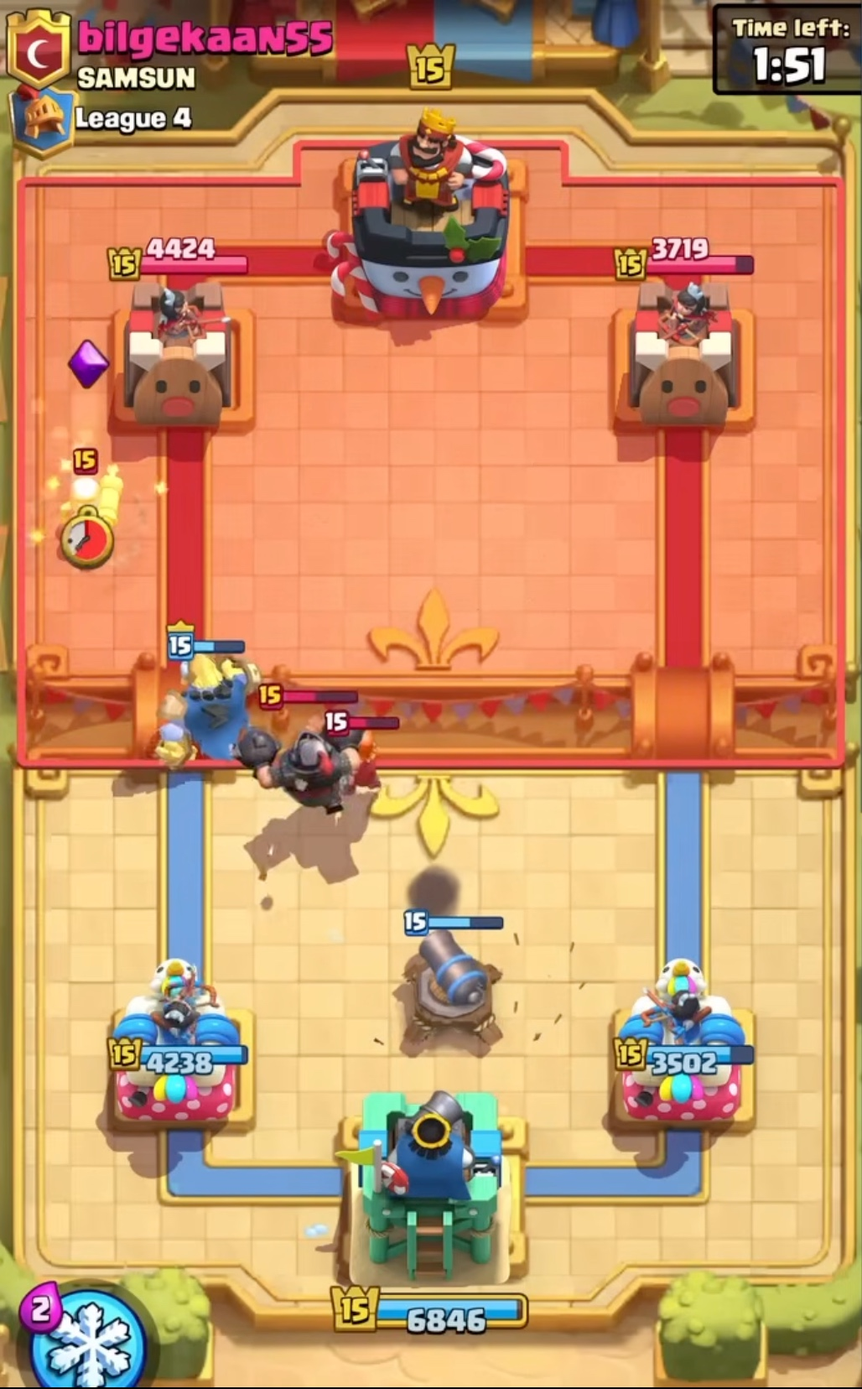cannon: (389, 904, 522, 1059)
hero-ice-golem: (148, 617, 277, 787)
